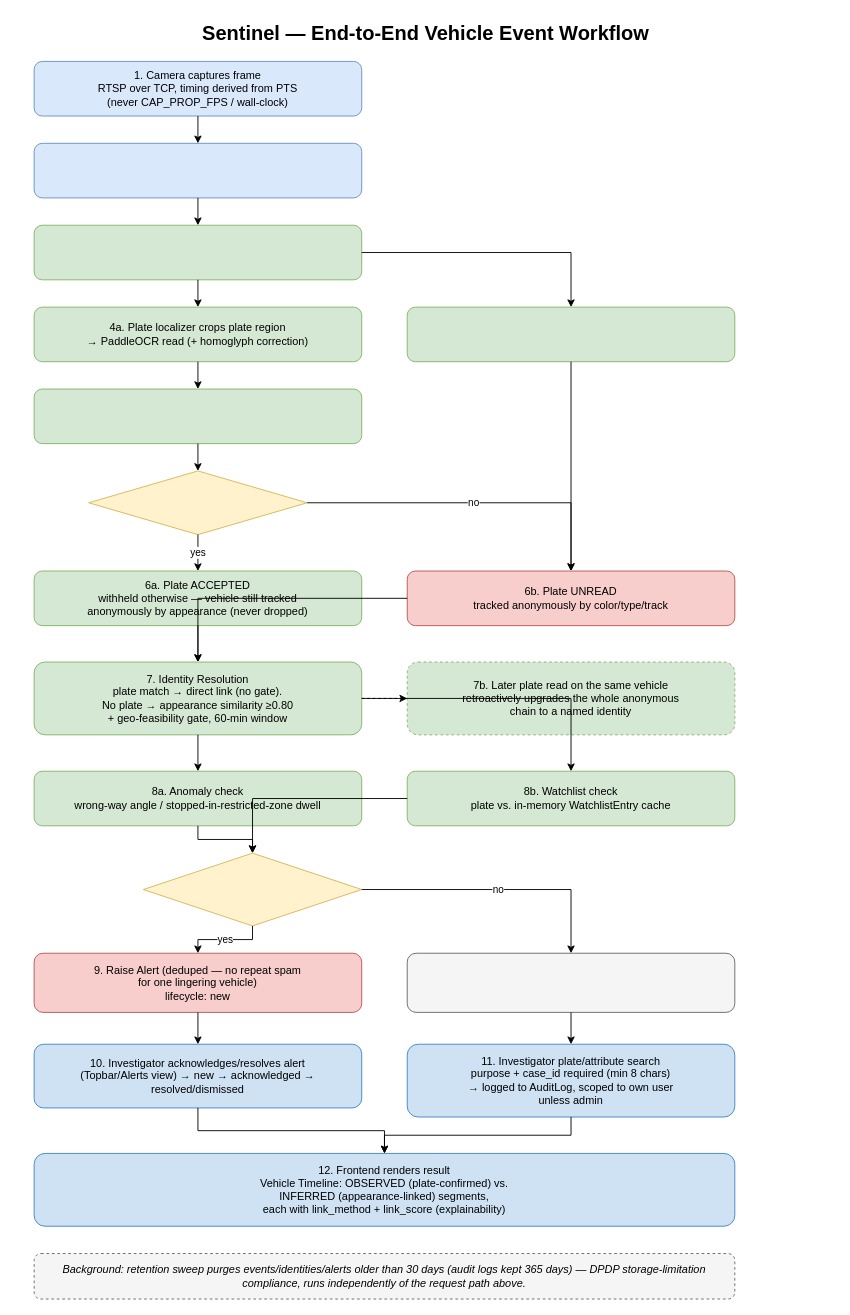
Image size: 850x1315. Some labels were removed from this diagram. The centre of each missing label's shape, as x and y in pixels:
2. Frame-stride sampling every Nth frame per camera (bounded CPU/GPU load): [197,170]
3. YOLOv8 vehicle detection + ByteTrack within-camera tracking: [197,252]
4b. Attribute extraction HSV color + vehicle type (always runs, in parallel): [570,334]
5. consensus_plate() vote-share fusion across the track's frames: [197,416]
anomaly OR watchlist match?: [252,889]
confidence ≥ 0.5?: [197,502]
No alert — event stored, visible via search/timeline only: [570,982]
